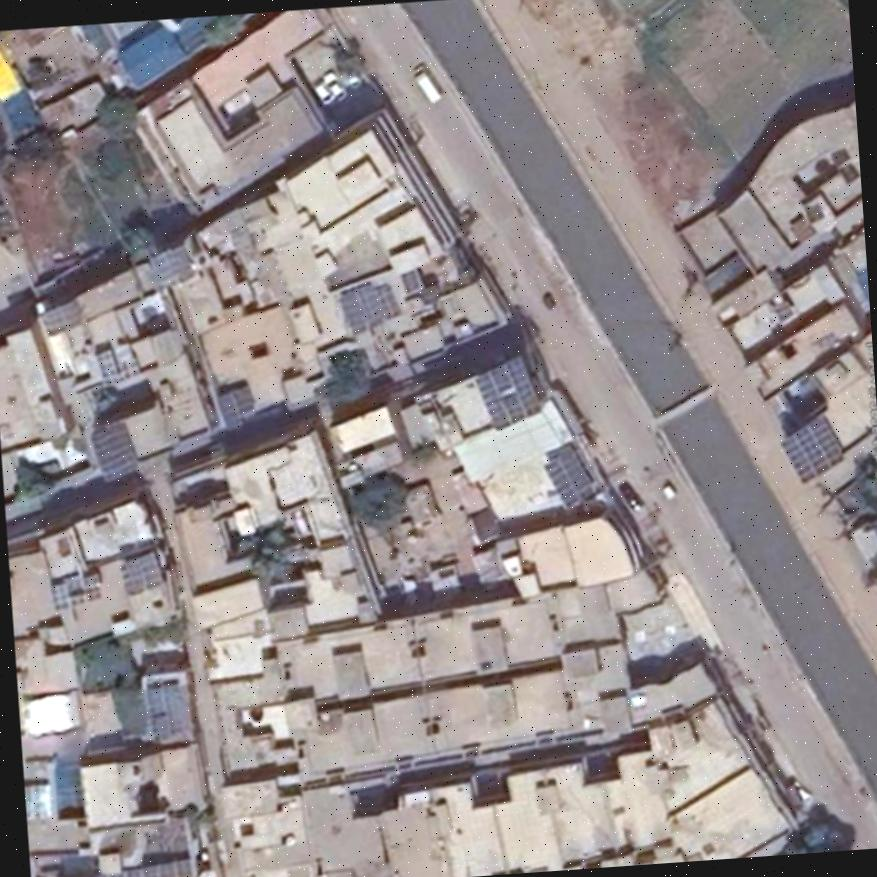Solarpanel: (473, 355, 538, 427), (779, 416, 842, 484), (336, 276, 398, 334), (542, 444, 593, 508), (89, 424, 138, 489), (121, 548, 163, 597), (93, 856, 191, 877), (215, 384, 254, 421)
